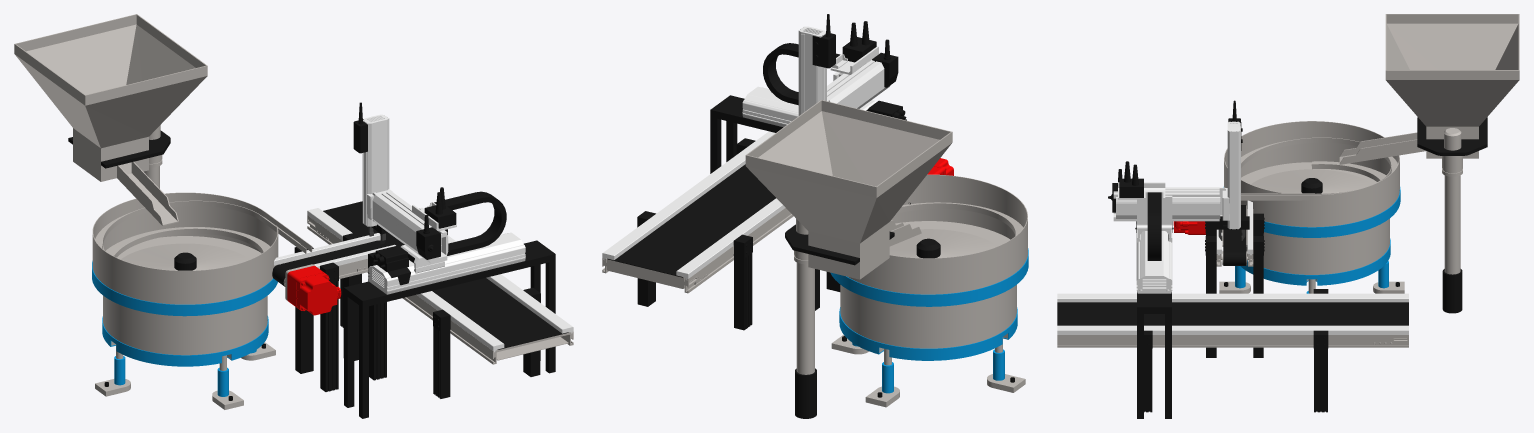
Rendered from Pick_and_Place_Station.glb.
3 views of the same model, side by side, from view 1: azimuth 30°, elevation 25°; view 2: azimuth 150°, elevation 25°; view 3: azimuth 270°, elevation 25° (orthographic). The views are drawn at different scales.
Parts seen in each view (by area): view 1: color-12[21], color-12[20], color-12[5], color-8.002, color-13[2], color-9.002, color-12[27], color-5[5], color-12.002, color.003, color-11[1], color-12[6] (+18 smaller); view 2: color-12[21], color-12[20], color-12[5], color-13[2], color-12.002, color-13[3], color-12[6], color-12[25], color-8.002, color-5[5], color.003, color-14.002 (+17 smaller); view 3: color-12[21], color-12[20], color-13[2], color-12[5], color-13[5], color-13[3], color-13[4], color-5[5], color-8.002, color-12[27], color-9.002, color-12[25] (+13 smaller).
Boxes of the visible parts, x1=… form: color-12[21]: x1=14, y1=14, x2=207, y2=225; color-12[20]: x1=92, y1=192, x2=278, y2=304; color-12[5]: x1=103, y1=295, x2=267, y2=358; color-8.002: x1=344, y1=240, x2=555, y2=418; color-13[2]: x1=323, y1=201, x2=568, y2=349; color-9.002: x1=368, y1=232, x2=525, y2=294; color-12[27]: x1=95, y1=200, x2=312, y2=257; color-5[5]: x1=366, y1=189, x2=448, y2=263; color-12.002: x1=92, y1=261, x2=277, y2=316; color.003: x1=362, y1=114, x2=389, y2=226; color-11[1]: x1=287, y1=265, x2=341, y2=315; color-12[6]: x1=102, y1=316, x2=268, y2=366; color-12[21]: x1=745, y1=100, x2=952, y2=279; color-12[20]: x1=847, y1=174, x2=1027, y2=294; color-12[5]: x1=840, y1=285, x2=1016, y2=352; color-13[2]: x1=607, y1=164, x2=775, y2=277; color-12.002: x1=830, y1=248, x2=1028, y2=306; color-13[3]: x1=602, y1=131, x2=775, y2=259; color-12[6]: x1=839, y1=307, x2=1017, y2=360; color-12[25]: x1=796, y1=262, x2=814, y2=374; color-8.002: x1=710, y1=95, x2=782, y2=173; color-5[5]: x1=827, y1=59, x2=890, y2=108; color.003: x1=798, y1=26, x2=826, y2=115; color-14.002: x1=733, y1=234, x2=752, y2=330; color-12[21]: x1=1339, y1=14, x2=1519, y2=164; color-12[20]: x1=1224, y1=121, x2=1399, y2=227; color-13[2]: x1=1057, y1=302, x2=1408, y2=325; color-12[5]: x1=1246, y1=218, x2=1389, y2=281; color-13[5]: x1=1057, y1=335, x2=1382, y2=347; color-13[3]: x1=1057, y1=325, x2=1408, y2=334; color-13[4]: x1=1057, y1=293, x2=1408, y2=302; color-5[5]: x1=1113, y1=187, x2=1229, y2=221; color-8.002: x1=1137, y1=292, x2=1171, y2=418; color-12[27]: x1=1241, y1=137, x2=1397, y2=200; color-9.002: x1=1136, y1=224, x2=1172, y2=293; color-12[25]: x1=1444, y1=175, x2=1460, y2=274.
Size of the model in its own units: 1.13 by 0.79 by 1.31.
